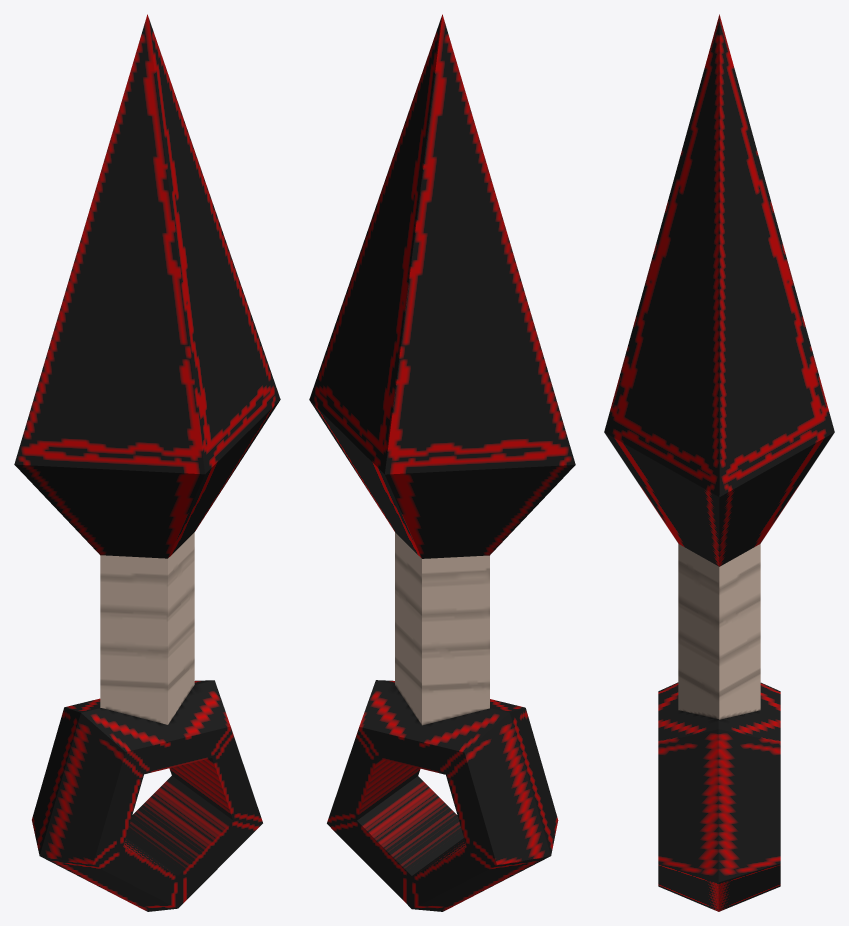
File: Kunai.fbx
The picture shows the model from 3 angles, left to right: view 1: azimuth 30°, elevation 25°; view 2: azimuth 150°, elevation 25°; view 3: azimuth 270°, elevation 25°; orthographic projection.
Visible parts, largest first — view 1: Cone; view 2: Cone; view 3: Cone.
Part boxes in pixels (x1,y1,x2,y2): Cone: (14, 14, 280, 911); Cone: (309, 14, 575, 911); Cone: (604, 14, 834, 911).
Bounding box in the file's own units: 26.65 × 85.83 × 19.99.
1 material, 1 textured.
